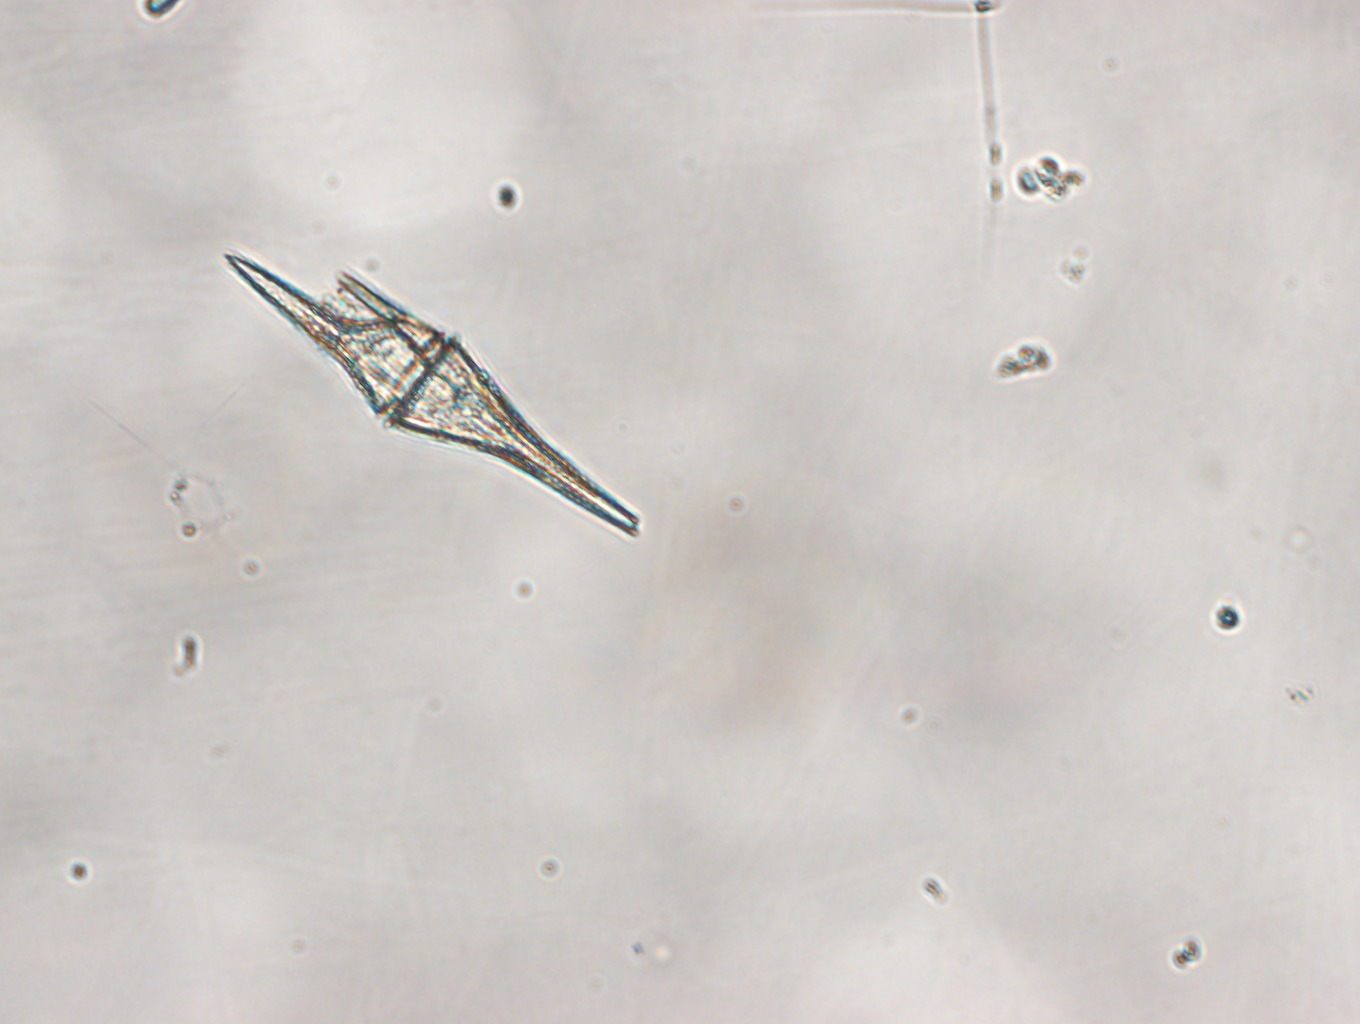ceratium furca: (223, 251, 642, 541)
